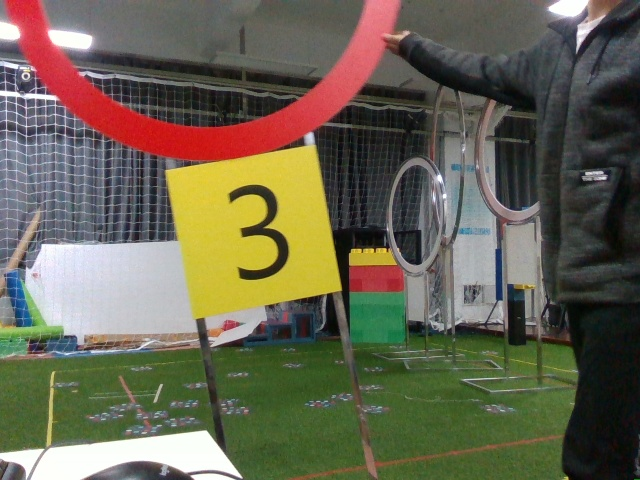target: (173, 162, 335, 305)
